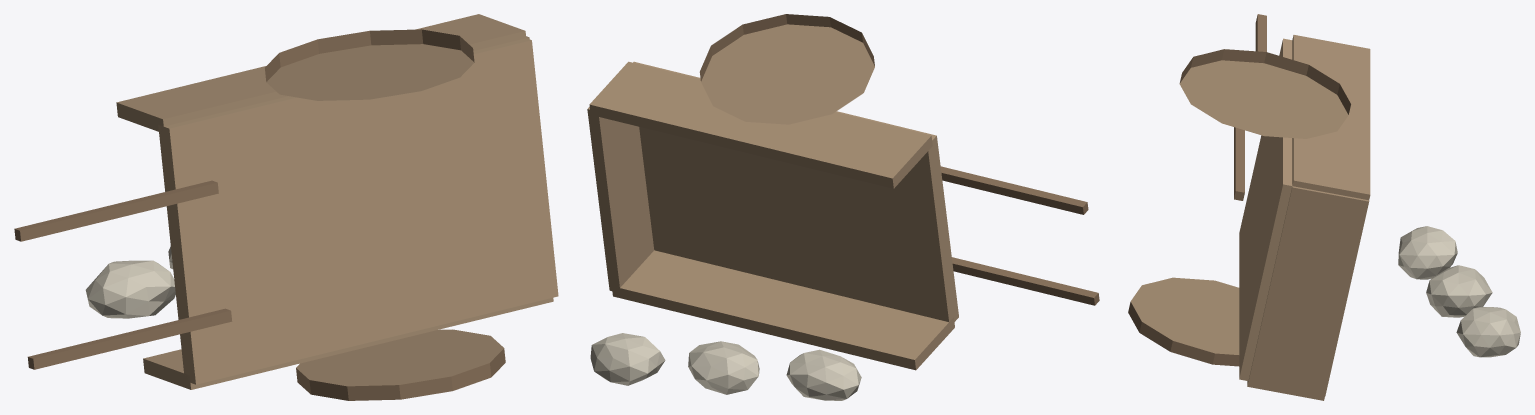
The model's file is cart.glb.
3 views of the same model, side by side, from view 1: azimuth 30°, elevation 25°; view 2: azimuth 150°, elevation 25°; view 3: azimuth 270°, elevation 25° (orthographic). The views are drawn at different scales.
Parts seen in each view (by area): view 1: cart; view 2: cart; view 3: cart.
Boxes of the visible parts, box(x1,y1,x2,y2) form: cart: box(14, 14, 558, 400); cart: box(587, 14, 1099, 400); cart: box(1128, 14, 1520, 400).
Bounding box in the file's own units: 3.22 × 1.91 × 2.5.
